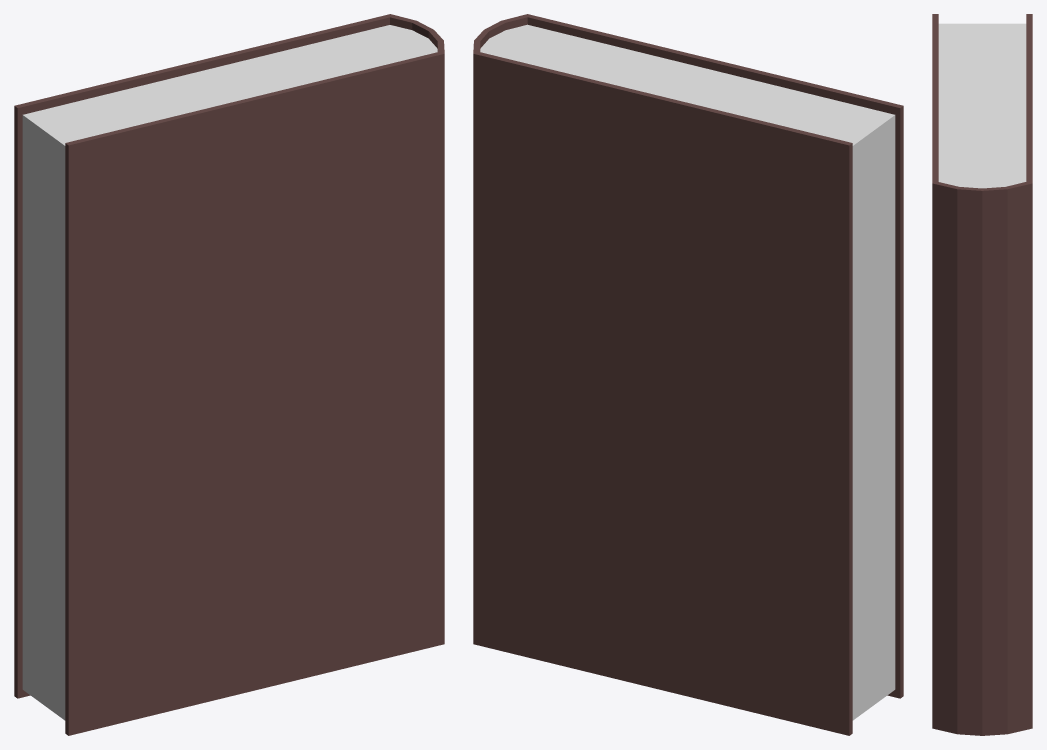
The model's file is book.glb.
The picture shows the model from 3 angles, left to right: view 1: azimuth 30°, elevation 25°; view 2: azimuth 150°, elevation 25°; view 3: azimuth 270°, elevation 25°; orthographic projection. The views are drawn at different scales.
Visible parts, largest first — view 1: Cover, Pages; view 2: Cover, Pages; view 3: Cover, Pages.
Part boxes in pixels (x1,y1,x2,y2): Cover: [14, 14, 444, 735]; Pages: [22, 25, 437, 720]; Cover: [473, 14, 903, 735]; Pages: [480, 24, 895, 720]; Cover: [932, 14, 1032, 735]; Pages: [938, 23, 1026, 188].
Size of the model in its own units: 4.18 by 6 by 1.
